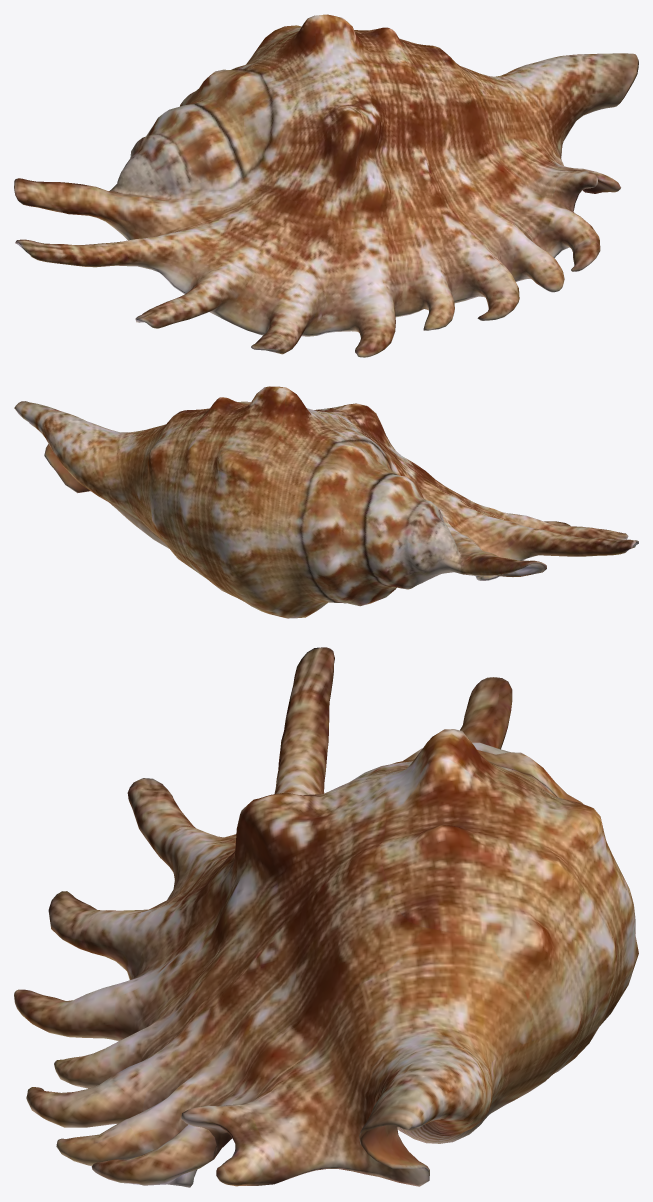
Rendered from lambis_shell.glb.
3 renders of one model, top to bottom at view 1: azimuth 30°, elevation 25°; view 2: azimuth 150°, elevation 25°; view 3: azimuth 270°, elevation 25°, orthographic. The views are drawn at different scales.
Parts seen in each view (by area): view 1: lambis_shell; view 2: lambis_shell; view 3: lambis_shell.
Part boxes in pixels (x1,y1,x2,y2): lambis_shell: (14,14,638,357); lambis_shell: (14,386,638,618); lambis_shell: (14,647,638,1187).
Size of the model in its own units: 0.1395 by 0.0465 by 0.0745.
1 material, 1 textured.
